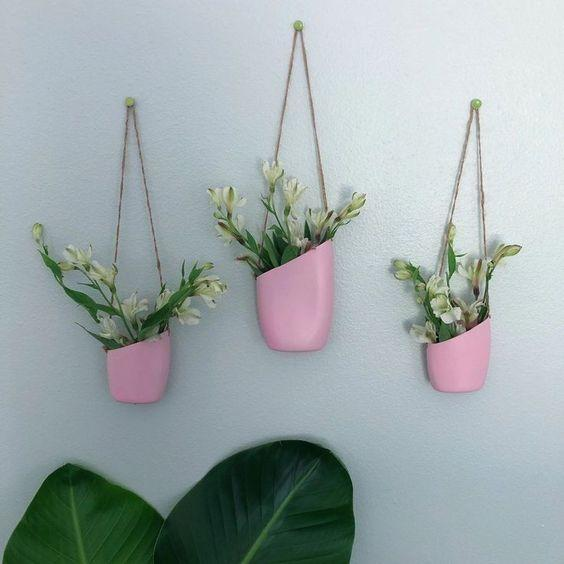HDPE: (252, 275, 336, 353), (104, 334, 173, 403), (425, 340, 494, 394)
